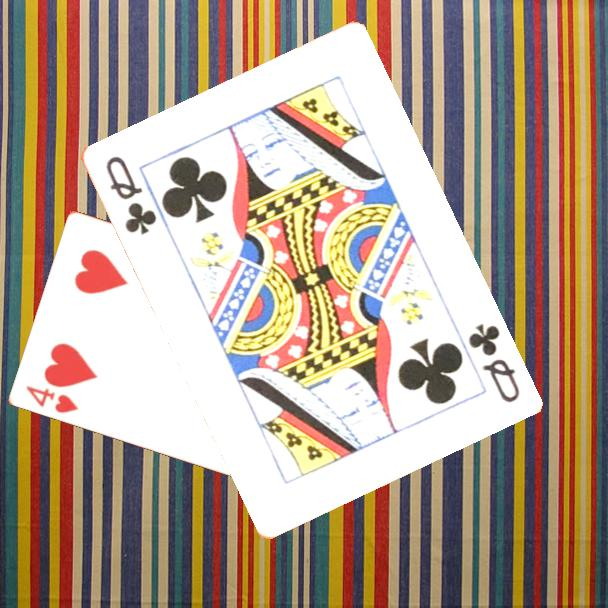c12: (463, 319, 522, 406), (101, 152, 159, 238)
h04: (23, 382, 82, 416)
